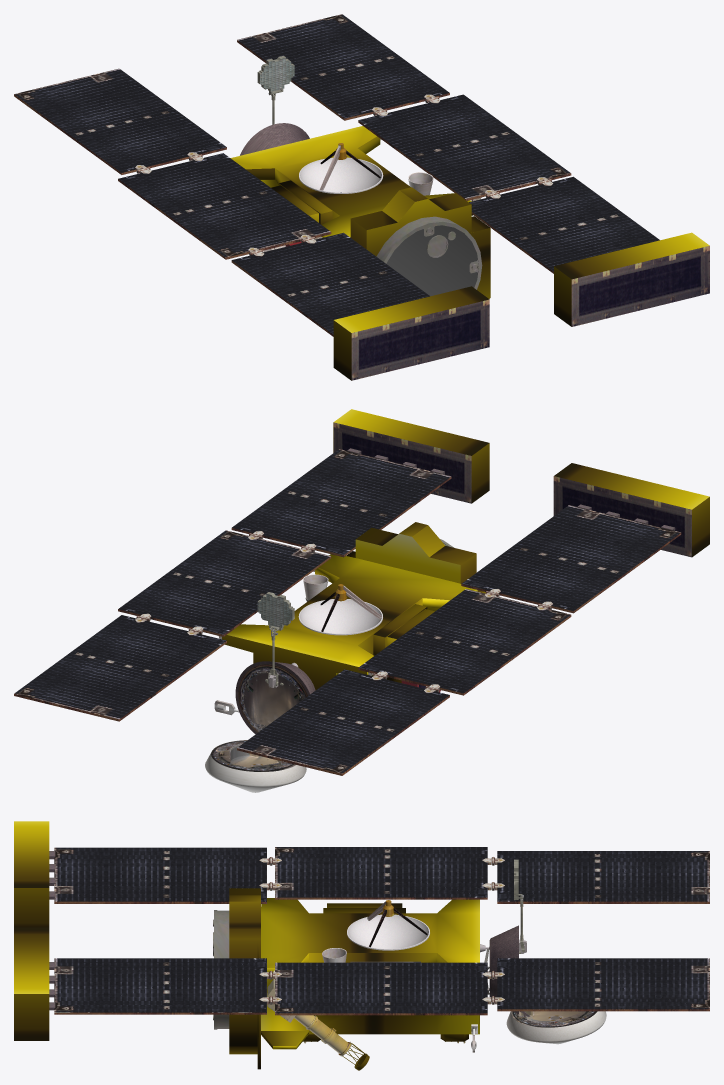
Rendered from Stardust.glb.
3 renders of one model, top to bottom at view 1: azimuth 30°, elevation 25°; view 2: azimuth 150°, elevation 25°; view 3: azimuth 270°, elevation 25°, orthographic.
Visible parts, largest first — view 1: shiny_panels, Stardust_tex_01, gold_foil2, gold_foil, foil_silver, Stardust_tex_03, Stardust_tex_02, Stardust_tex_01_c, Stardust_tex_02_c2; view 2: shiny_panels, Stardust_tex_01, gold_foil, gold_foil2, Stardust_tex_03_c, Stardust_tex_03, Stardust_tex_01_c2, Stardust_tex_03_c2, Stardust_tex_02_c2, Stardust_tex_01_c; view 3: shiny_panels, gold_foil, gold_foil2, Stardust_tex_01, Stardust_tex_02, Stardust_tex_03, Stardust_tex_01_c2, Stardust_tex_01_c, Stardust_tex_03_c2, Stardust_tex_02_c2.
Boxes of the visible parts, left/top/right/bottom form: shiny_panels: left=14, top=14, right=659, bottom=334; Stardust_tex_01: left=14, top=40, right=709, bottom=380; gold_foil2: left=271, top=180, right=709, bottom=380; gold_foil: left=230, top=126, right=490, bottom=298; foil_silver: left=386, top=225, right=477, bottom=296; Stardust_tex_03: left=299, top=143, right=383, bottom=193; Stardust_tex_02: left=285, top=216, right=482, bottom=289; Stardust_tex_01_c: left=240, top=123, right=309, bottom=155; Stardust_tex_02_c2: left=257, top=56, right=294, bottom=124; shiny_panels: left=14, top=449, right=680, bottom=773; Stardust_tex_01: left=14, top=422, right=691, bottom=775; gold_foil: left=222, top=533, right=477, bottom=690; gold_foil2: left=333, top=409, right=709, bottom=655; Stardust_tex_03_c: left=238, top=664, right=307, bottom=732; Stardust_tex_03: left=298, top=584, right=382, bottom=635; Stardust_tex_01_c2: left=205, top=753, right=306, bottom=792; Stardust_tex_03_c2: left=211, top=740, right=295, bottom=771; Stardust_tex_02_c2: left=257, top=592, right=294, bottom=687; Stardust_tex_01_c: left=235, top=661, right=315, bottom=734; shiny_panels: left=54, top=847, right=709, bottom=1013; gold_foil: left=261, top=898, right=479, bottom=1049; gold_foil2: left=14, top=821, right=468, bottom=1070; Stardust_tex_01: left=49, top=851, right=709, bottom=1066; Stardust_tex_02: left=54, top=910, right=489, bottom=1056; Stardust_tex_03: left=347, top=900, right=429, bottom=950; Stardust_tex_01_c2: left=506, top=1011, right=606, bottom=1044; Stardust_tex_01_c: left=489, top=925, right=518, bottom=1014; Stardust_tex_03_c2: left=511, top=1011, right=597, bottom=1027; Stardust_tex_02_c2: left=514, top=859, right=526, bottom=953.
Size of the model in its own units: 2.94 by 1.45 by 5.01.
Materials: 7 (7 with a texture image).
